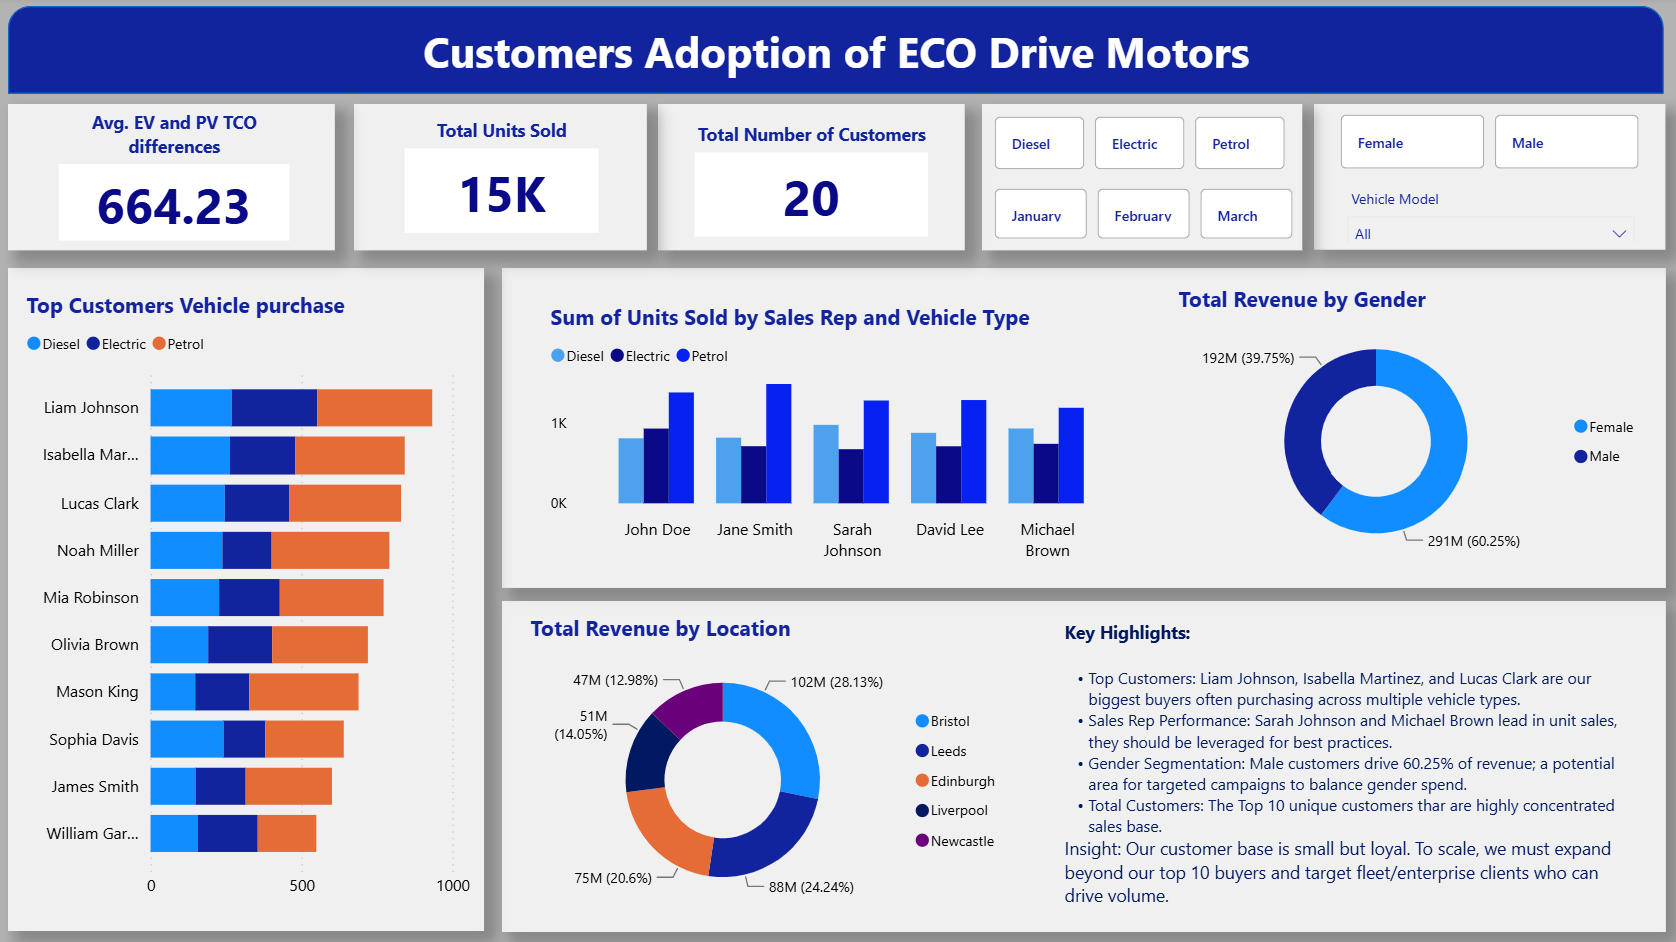

What the dashboard file says about the page in this screenshot:
{"tool":"powerbi","page":{"name":"Customer Adoption","canvas":[1280,720],"ordinal":3},"visuals":[{"type":"shape","box":[384.7,206.1,882.7,241.8],"z":0},{"type":"shape","box":[11.1,206.7,361.1,502.2],"z":1000},{"type":"clusteredColumnChart","fields":{"Category":["Order Details.Sales Rep"],"Y":["Sum(Order Details.Units Sold)"],"Series":["Products.Vehicle Type"]},"box":[417.3,231.6,445.9,203.1],"z":2000},{"type":"barChart","title":"Top Customers Vehicle purchase","fields":{"Category":["Order Details.Customer Name"],"Y":["Sum(Order Details.Units Sold)"],"Series":["Order Details.Vehicle Type"]},"box":[19.4,223.5,345.9,469.4],"z":3000},{"type":"shape","box":[11.1,7.8,1255.6,66.7],"z":4000},{"type":"textbox","box":[276.7,14.4,725.6,53.3],"z":5000},{"type":"donutChart","fields":{"Y":["Customer Table.Total Revenue"],"Category":["Customer Table.Gender"]},"box":[892.9,218.4,364.3,216.3],"z":6000},{"type":"shape","box":[504.1,82.7,232.7,111.2],"z":7000},{"type":"shape","box":[273.3,82.2,222.2,111.1],"z":8000},{"type":"shape","box":[11.1,82.2,247.8,111.1],"z":9000},{"type":"cardVisual","title":"Avg. EV and PV TCO differences","fields":{"Data":["Customer Table.Avg TCO Difference (EV - Petrol)"]},"box":[43.8,86.5,185.4,104.2],"z":10000},{"type":"cardVisual","title":"Total Units Sold","fields":{"Data":["Sum(Sales Details.Units Sold)"]},"box":[306.1,91.8,157.1,92.9],"z":11000},{"type":"cardVisual","title":"Total Number of Customers","fields":{"Data":["Customer Table.Total Customers"]},"box":[526.5,94.9,187.8,92.9],"z":12000},{"type":"shape","box":[384.7,458.2,882.7,251],"z":13000},{"type":"shape","box":[1001,82.3,266.7,110.4],"z":14000},{"type":"shape","box":[749,82.7,242.9,111.2],"z":15000},{"type":"advancedSlicerVisual","fields":{"Values":["Order Details.Date of Sale.Variation.Date Hierarchy.Month"]},"box":[754.4,141.1,237.8,48.9],"z":16000},{"type":"slicer","fields":{"Values":["Order Details.Model Name"]},"box":[1015.6,141.1,237.8,46.7],"z":17000},{"type":"advancedSlicerVisual","fields":{"Values":["Order Details.Vehicle Type"]},"box":[754.4,86.7,232.2,50],"z":18000},{"type":"textbox","box":[806.1,467.3,441.8,231.6],"z":19000},{"type":"donutChart","fields":{"Y":["Customer Table.Total Revenue"],"Category":["Customer Table.Location"]},"box":[402,467.3,371.4,231.6],"z":20000},{"type":"advancedSlicerVisual","fields":{"Values":["Customer Table.Gender"]},"box":[1015.6,85.6,237.8,51.1],"z":21000}]}

Visuals, with their boxes in screenshot pixels (x1, y1, x2, y2), scaled from the page's 1280x720 canvas onto the 1676x942 screenshot:
shape: Rect(504, 270, 1660, 586)
shape: Rect(15, 270, 487, 927)
clusteredColumnChart - Order Details.Sales Rep x Sum(Order Details.Units Sold): Rect(546, 303, 1130, 569)
"Top Customers Vehicle purchase" barChart: Rect(25, 292, 478, 907)
shape: Rect(15, 10, 1659, 97)
textbox: Rect(362, 19, 1312, 89)
donutChart - Customer Table.Total Revenue x Customer Table.Gender: Rect(1169, 286, 1646, 569)
shape: Rect(660, 108, 965, 254)
shape: Rect(358, 108, 649, 253)
shape: Rect(15, 108, 339, 253)
"Avg. EV and PV TCO differences" cardVisual: Rect(57, 113, 300, 249)
"Total Units Sold" cardVisual: Rect(401, 120, 607, 242)
"Total Number of Customers" cardVisual: Rect(689, 124, 935, 246)
shape: Rect(504, 599, 1660, 928)
shape: Rect(1311, 108, 1660, 252)
shape: Rect(981, 108, 1299, 254)
advancedSlicerVisual - Order Details.Date of Sale.Variation.Date Hierarchy.Month: Rect(988, 185, 1299, 249)
slicer - Order Details.Model Name: Rect(1330, 185, 1641, 246)
advancedSlicerVisual - Order Details.Vehicle Type: Rect(988, 113, 1292, 179)
textbox: Rect(1055, 611, 1634, 914)
donutChart - Customer Table.Total Revenue x Customer Table.Location: Rect(526, 611, 1013, 914)
advancedSlicerVisual - Customer Table.Gender: Rect(1330, 112, 1641, 179)
